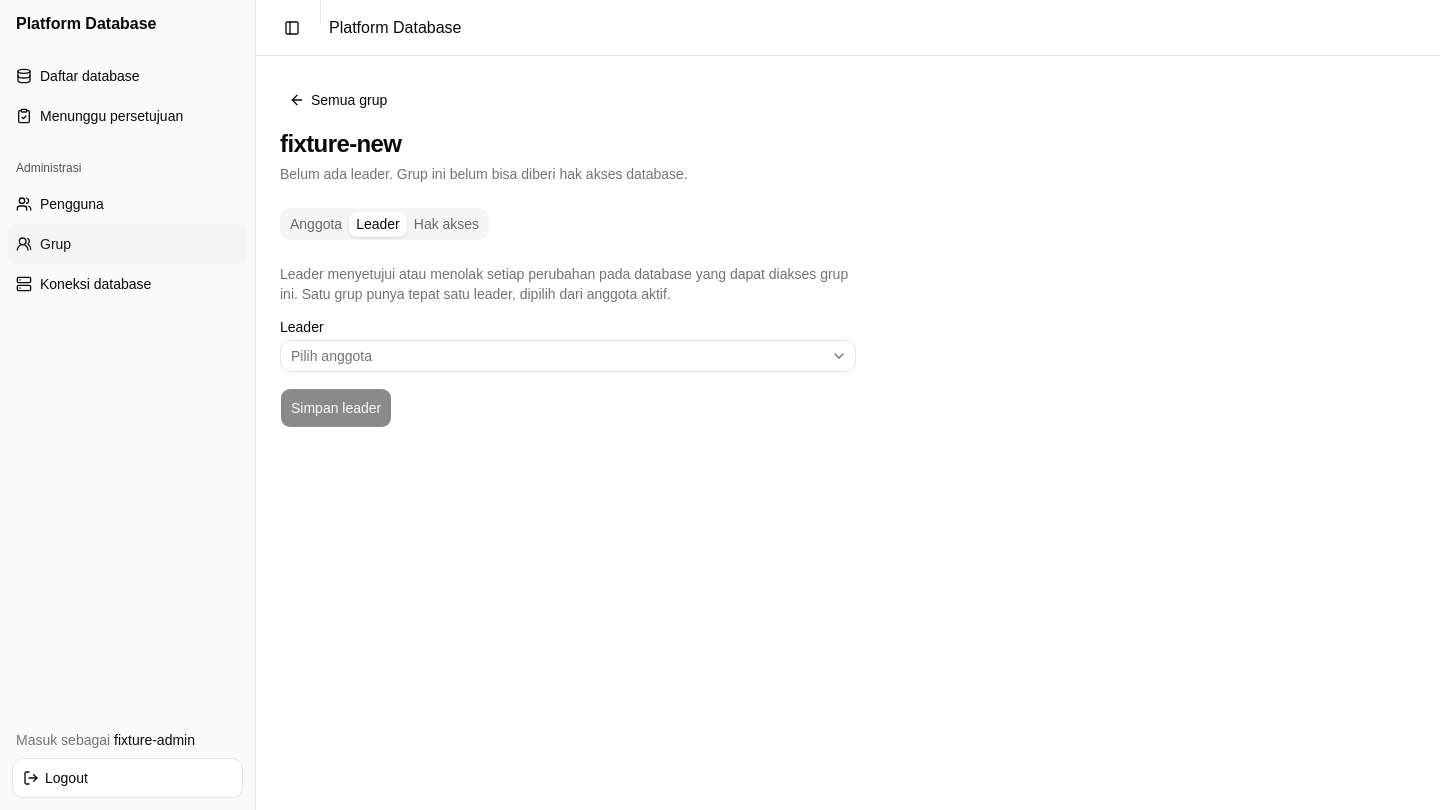
Scenario: group administration › sets the leader from the active members
Click the dropdown named "Leader".
click(331, 356)  # box top-left (280, 340), bottom-right (856, 372)
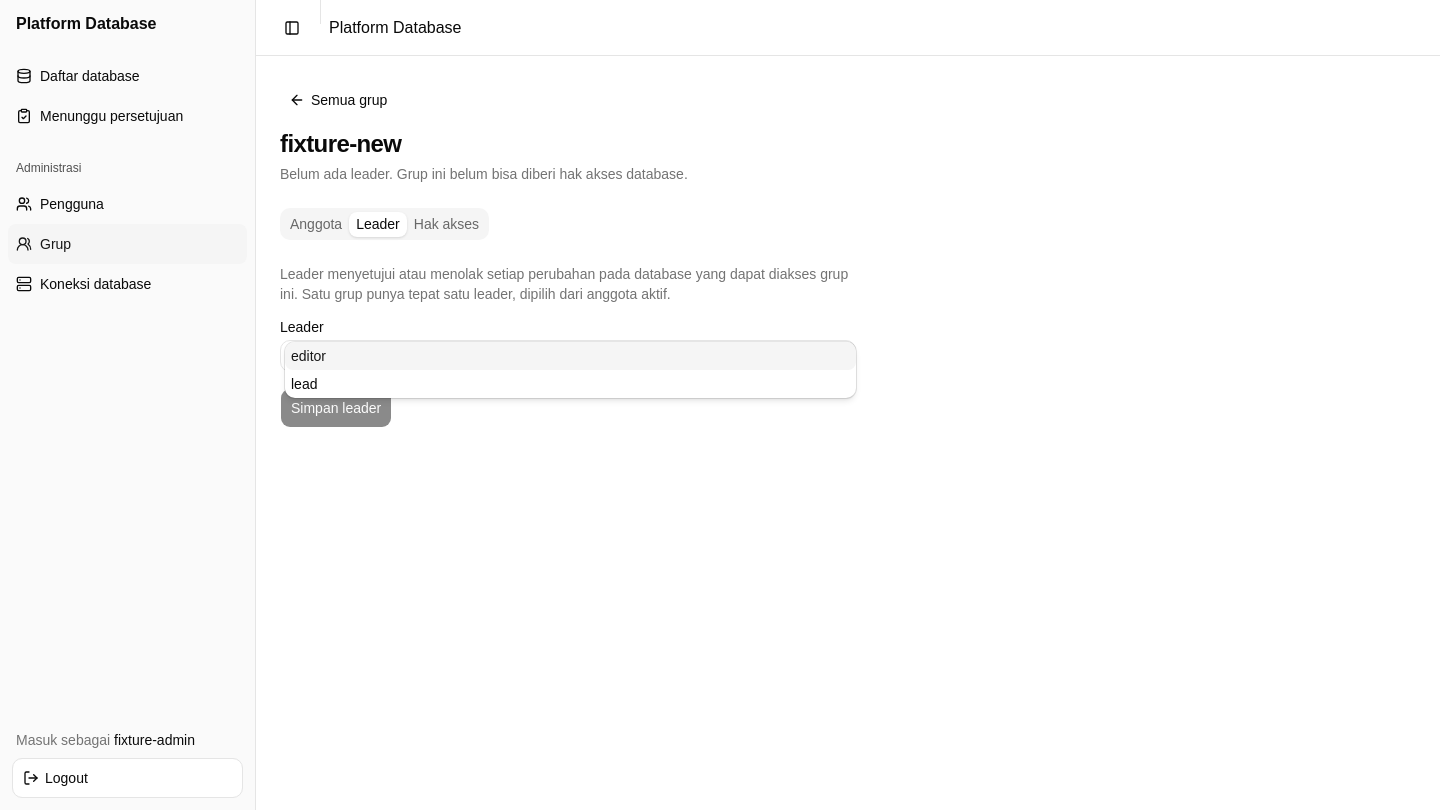
Click the option "editor".
click(309, 356)  # box top-left (285, 342), bottom-right (856, 370)
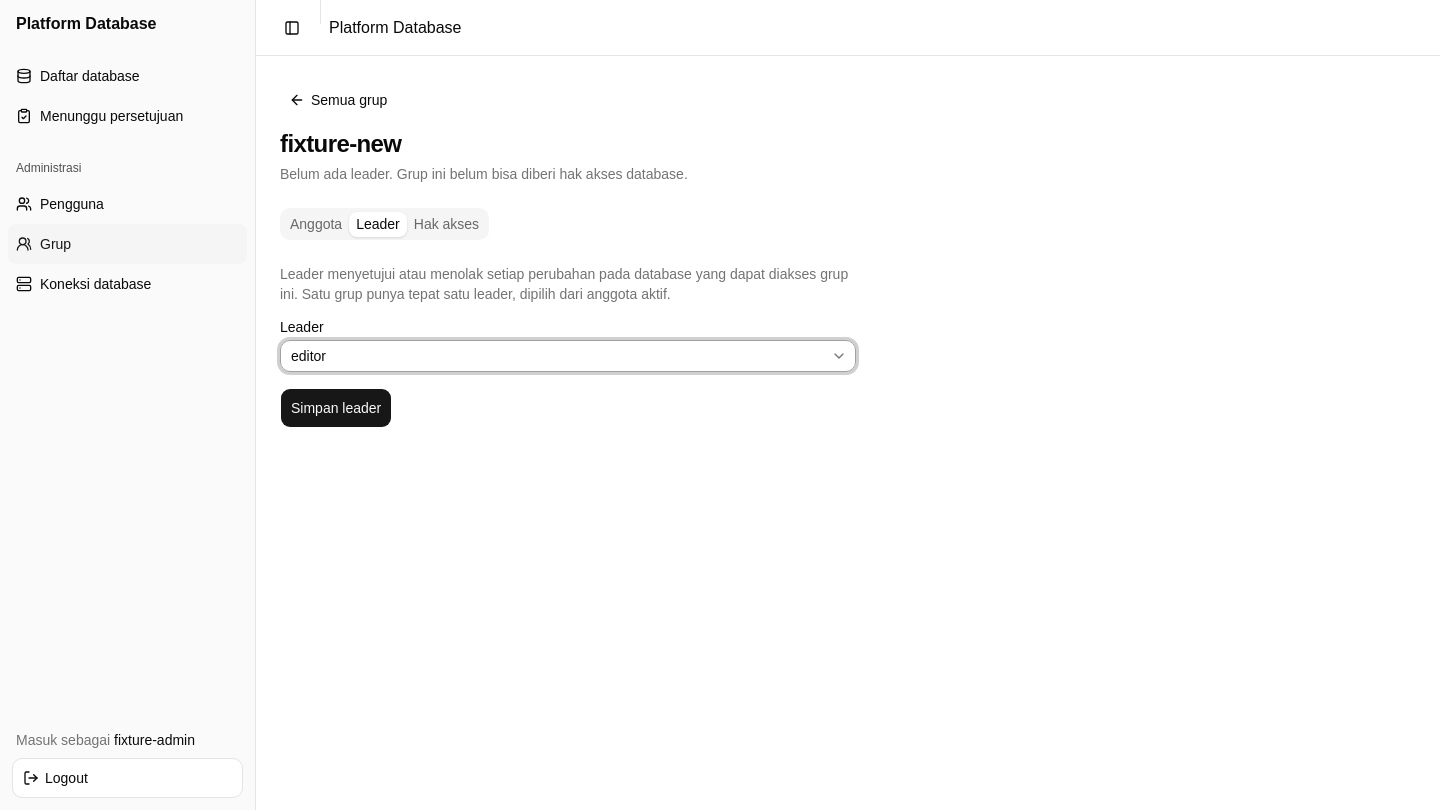
Click the button "Simpan leader".
click(336, 408)  # box top-left (280, 388), bottom-right (392, 428)
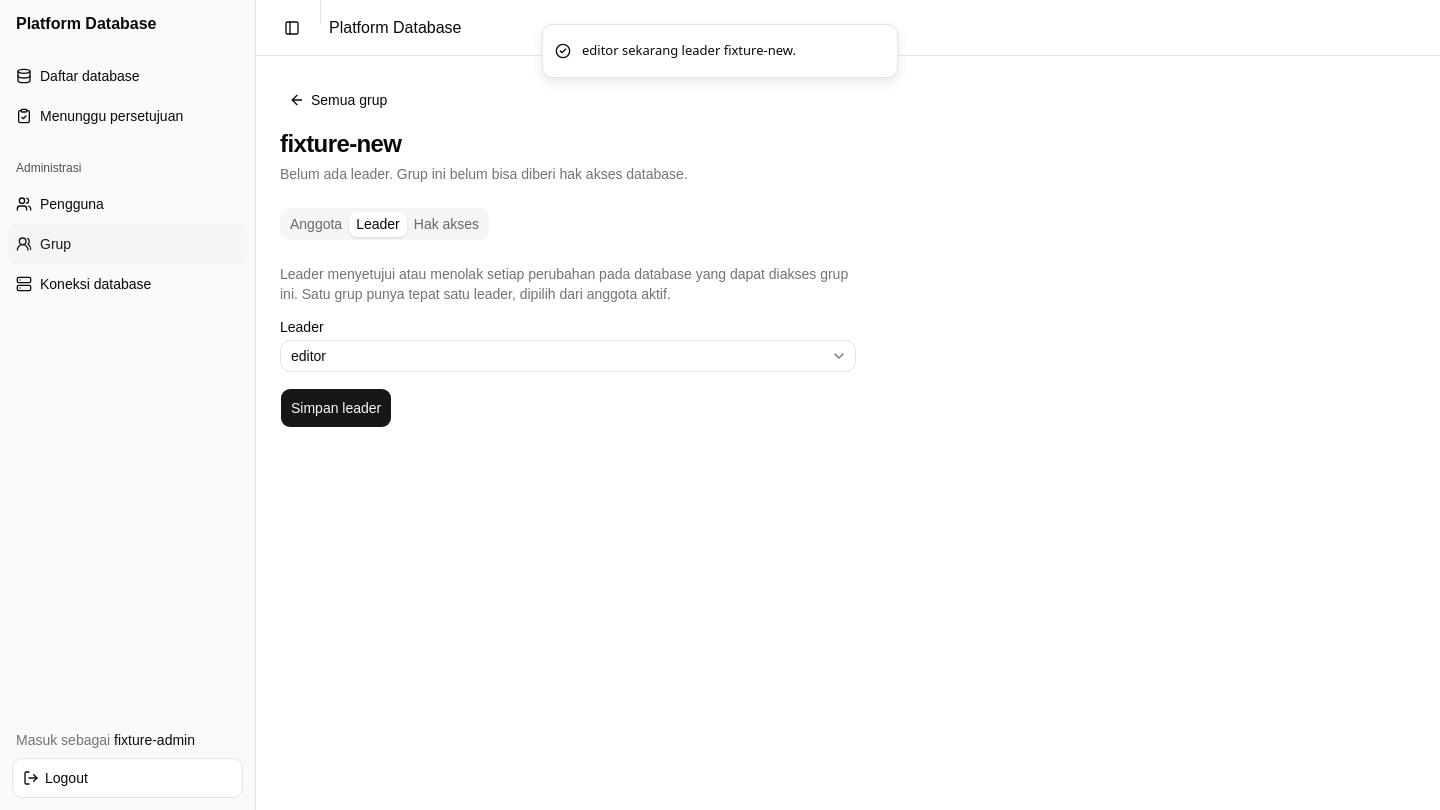
Check: the text "editor sekarang leader fixture-new." is shown, box top-left (582, 41), bottom-right (796, 60)
